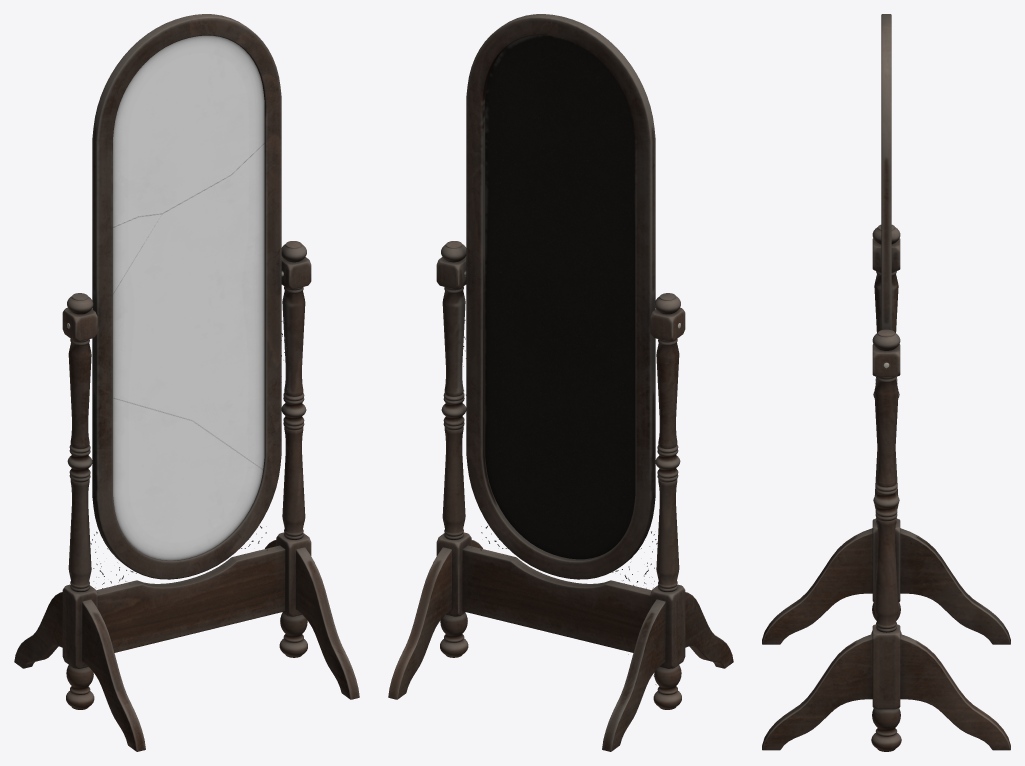
File: AntiqueMirror.fbx
3 views of the same model, side by side, from view 1: azimuth 30°, elevation 25°; view 2: azimuth 150°, elevation 25°; view 3: azimuth 270°, elevation 25° (orthographic).
Visible parts, largest first — view 1: antique_standing_mirror_antique_standing_mirror_Mat_0.001; view 2: antique_standing_mirror_antique_standing_mirror_Mat_0.001; view 3: antique_standing_mirror_antique_standing_mirror_Mat_0.001.
Boxes of the visible parts, left/top/right/bottom form: antique_standing_mirror_antique_standing_mirror_Mat_0.001: left=14, top=14, right=359, bottom=751; antique_standing_mirror_antique_standing_mirror_Mat_0.001: left=388, top=14, right=733, bottom=751; antique_standing_mirror_antique_standing_mirror_Mat_0.001: left=762, top=14, right=1010, bottom=751.
Bounding box in the file's own units: 64.89 × 141 × 45.51.
